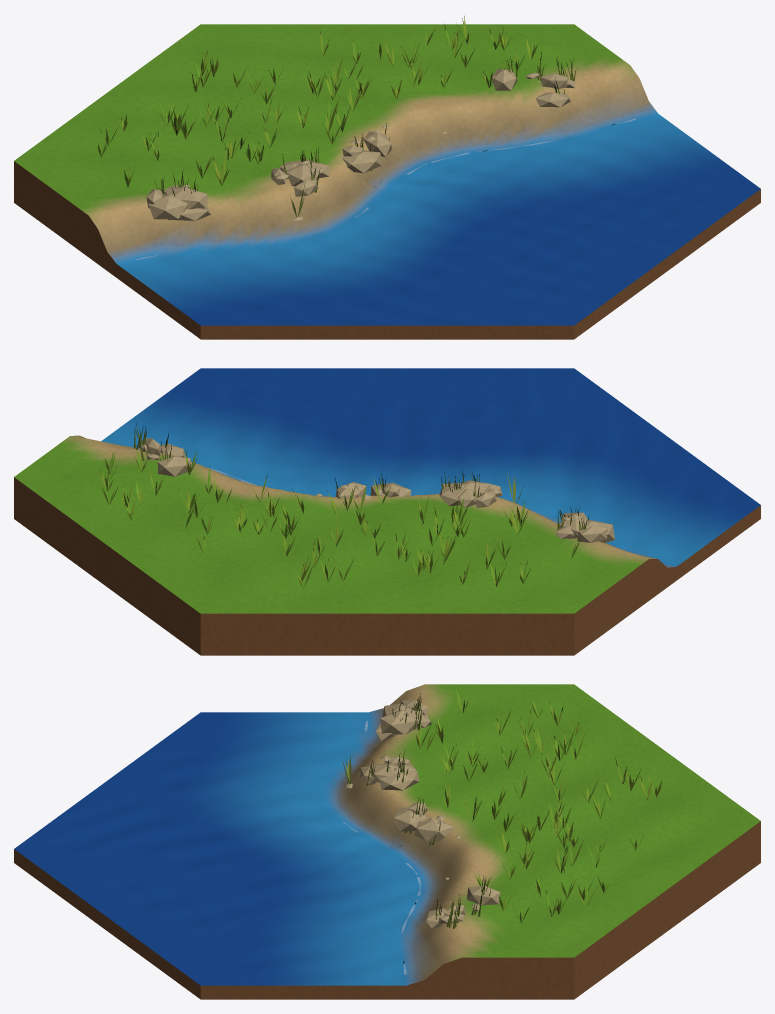
Rendered from SM_CostaNatural_A_Detalle_LOD0.fbx.
The picture shows the model from 3 angles, top to bottom: view 1: azimuth 30°, elevation 25°; view 2: azimuth 150°, elevation 25°; view 3: azimuth 270°, elevation 25°; orthographic projection.
Visible parts, largest first — view 1: SM_CostaNatural_A_Detalle_LOD0; view 2: SM_CostaNatural_A_Detalle_LOD0; view 3: SM_CostaNatural_A_Detalle_LOD0.
Boxes of the visible parts, x1,y1,x2,y2 form: SM_CostaNatural_A_Detalle_LOD0: (14,16,760,339); SM_CostaNatural_A_Detalle_LOD0: (14,368,760,655); SM_CostaNatural_A_Detalle_LOD0: (14,684,760,999).
Bounding box in the file's own units: 1.68 × 0.2019 × 1.94.
Materials: 1 (1 with a texture image).
